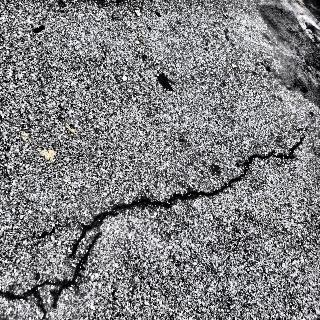crack: (70, 136, 305, 259), (0, 234, 100, 317)
